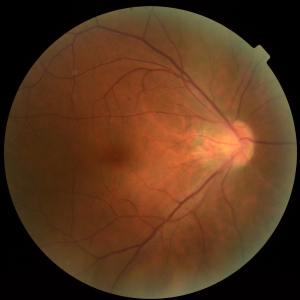healthy_eye: (58, 91, 274, 206)
